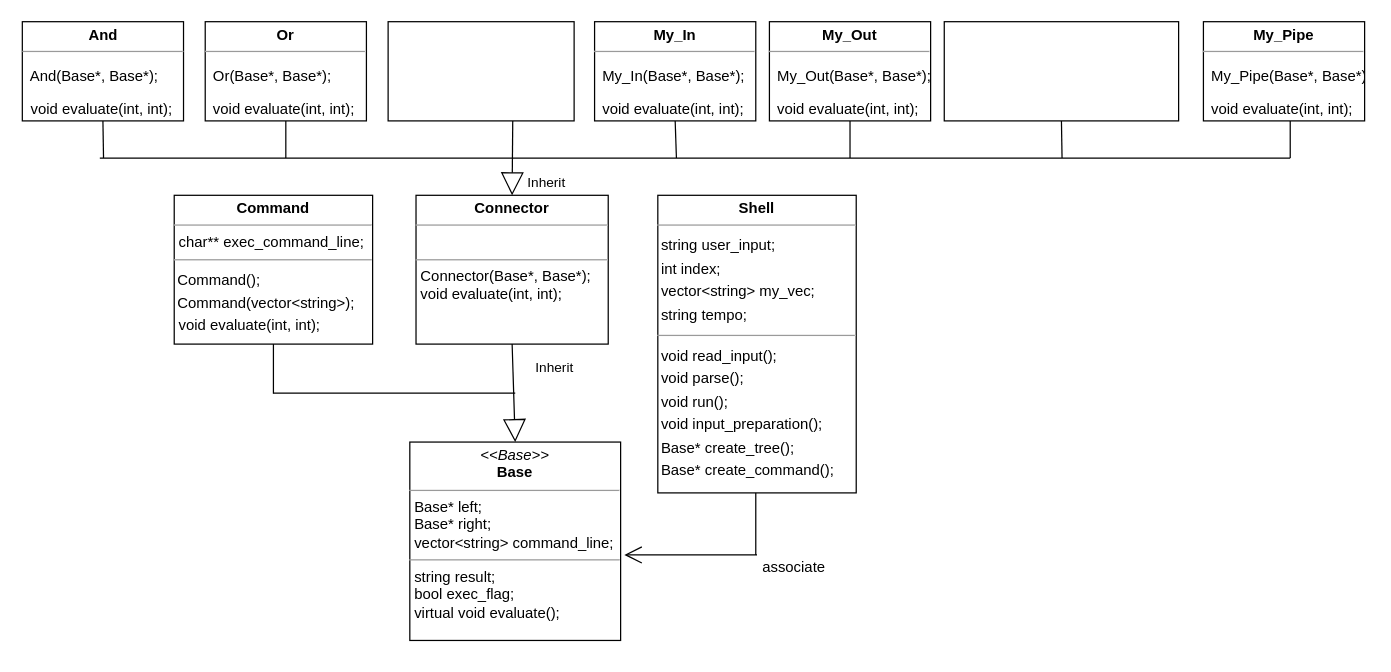
This 1391x672 diagram has some shape labels left out. The centre of each missing label's shape, as x and y in pixels:
"My_Out_Append My_Out_Append(Base*, Base*); void evaluate(int, int);" goes at pixel 1061 70.
"Semicolon Semicolon(Base*, Base*); void evaluate(int, int);" goes at pixel 480 70.
